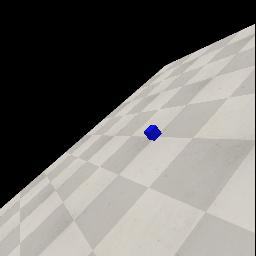box: (144, 125, 162, 141)
